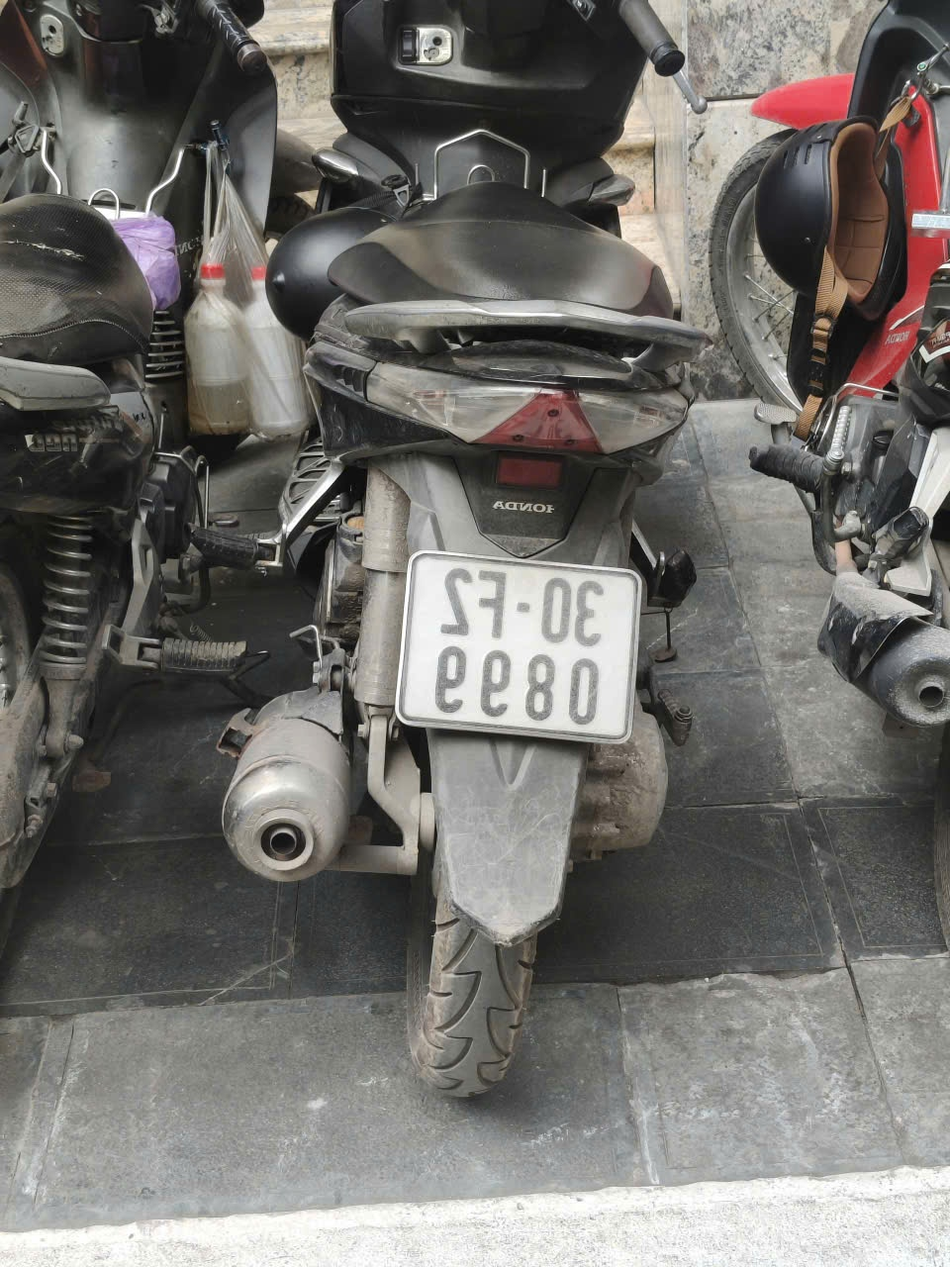plate: (677, 785, 840, 822)
